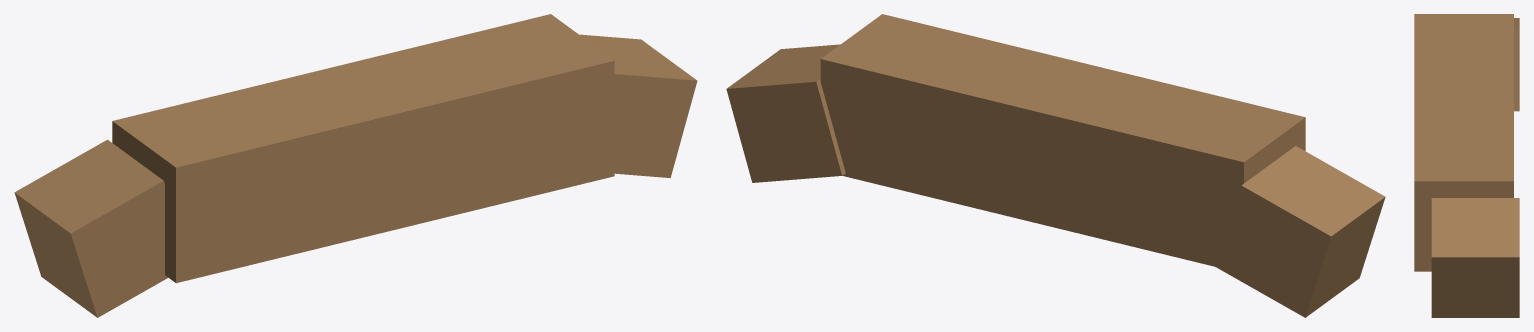
Rendered from face-stache-brown.glb.
3 renders of one model, left to right at view 1: azimuth 30°, elevation 25°; view 2: azimuth 150°, elevation 25°; view 3: azimuth 270°, elevation 25°, orthographic. The views are drawn at different scales.
Visible parts, largest first — view 1: stache, stache_tip_-1, stache_tip_1; view 2: stache, stache_tip_-1, stache_tip_1; view 3: stache, stache_tip_1, stache_tip_-1.
Boxes of the visible parts, <box> form: stache: <box>112,14,614,283</box>; stache_tip_-1: <box>14,139,168,317</box>; stache_tip_1: <box>579,34,697,177</box>; stache: <box>820,14,1305,266</box>; stache_tip_-1: <box>1215,146,1385,317</box>; stache_tip_1: <box>726,44,845,182</box>; stache: <box>1414,14,1513,271</box>; stache_tip_1: <box>1431,198,1519,317</box>; stache_tip_-1: <box>1514,18,1519,111</box>.
Bounding box in the file's own units: 0.1929 × 0.0418 × 0.036.
